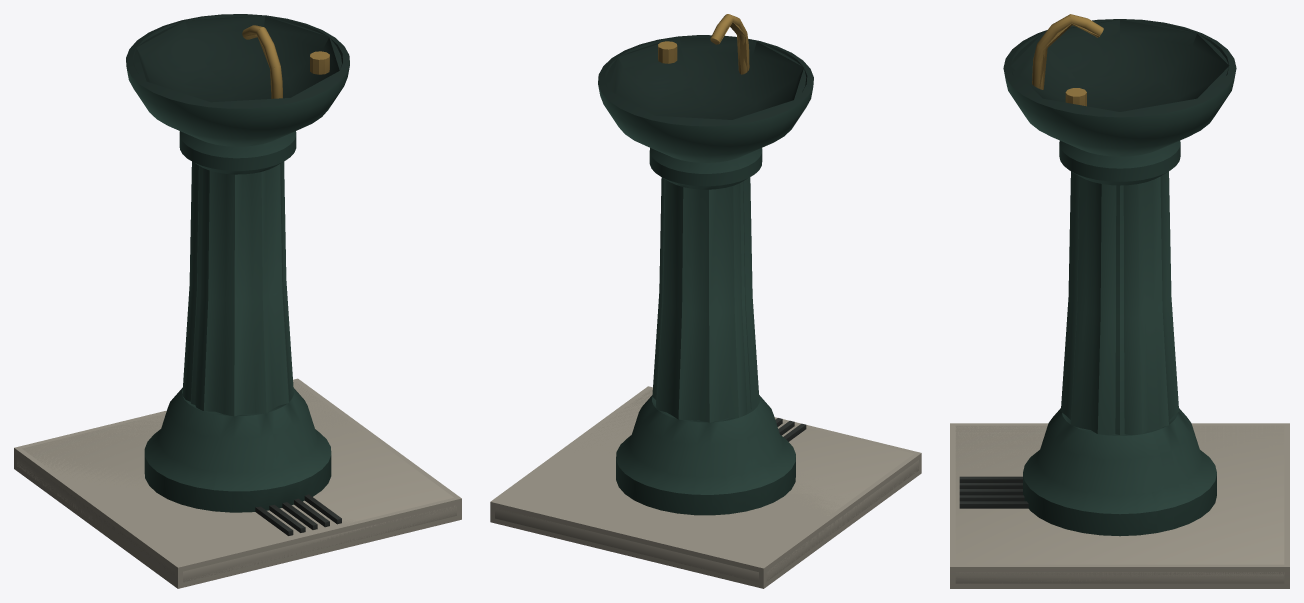
Rendered from fuente_beber.glb.
The picture shows the model from 3 angles, left to right: view 1: azimuth 30°, elevation 25°; view 2: azimuth 150°, elevation 25°; view 3: azimuth 270°, elevation 25°; orthographic projection. The views are drawn at different scales.
Parts seen in each view (by area): view 1: hd, lo; view 2: hd, lo; view 3: hd, lo.
Boxes of the visible parts, x1=… form: hd: x1=17, y1=14, x2=456, y2=582; lo: x1=14, y1=16, x2=461, y2=588; hd: x1=495, y1=14, x2=918, y2=582; lo: x1=490, y1=22, x2=921, y2=588; hd: x1=955, y1=14, x2=1284, y2=583; lo: x1=950, y1=17, x2=1289, y2=588.
Bounding box in the file's own units: 0.7 × 1.14 × 0.7.
